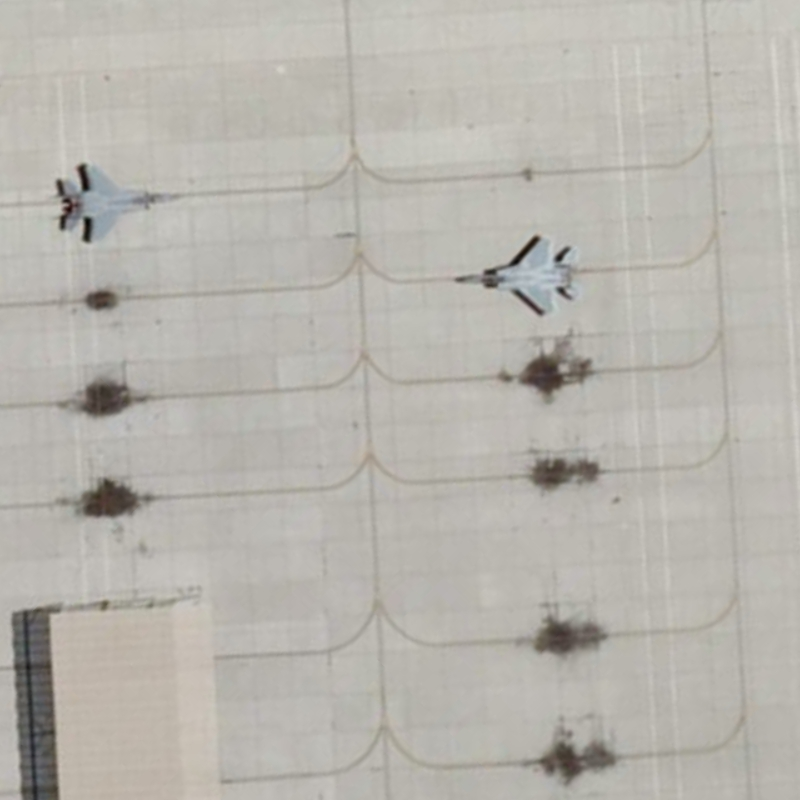A13: (448, 226, 587, 325), (51, 153, 188, 249)
